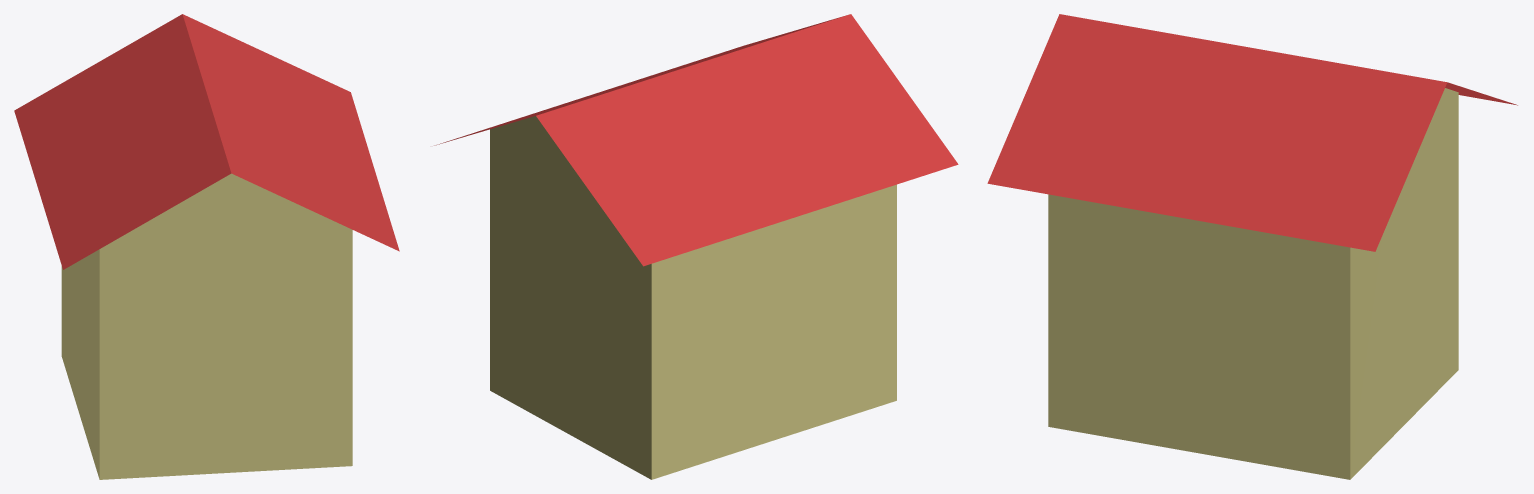
3 renders of one model, left to right at view 1: azimuth 30°, elevation 25°; view 2: azimuth 150°, elevation 25°; view 3: azimuth 270°, elevation 25°, orthographic. The views are drawn at different scales.
Size of the model in its own units: 10.88 by 11.4 by 8.28.
